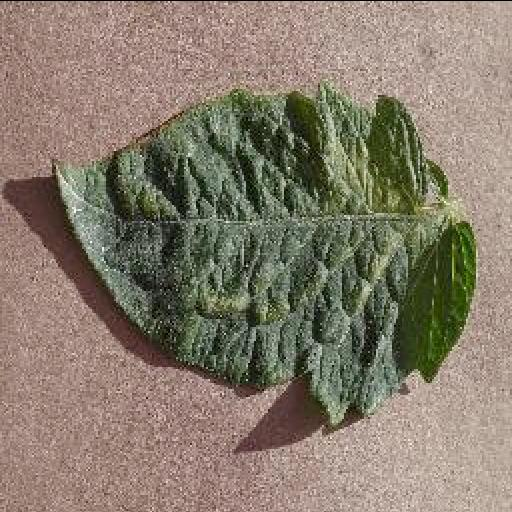disease_tomato: (50, 84, 480, 420)
